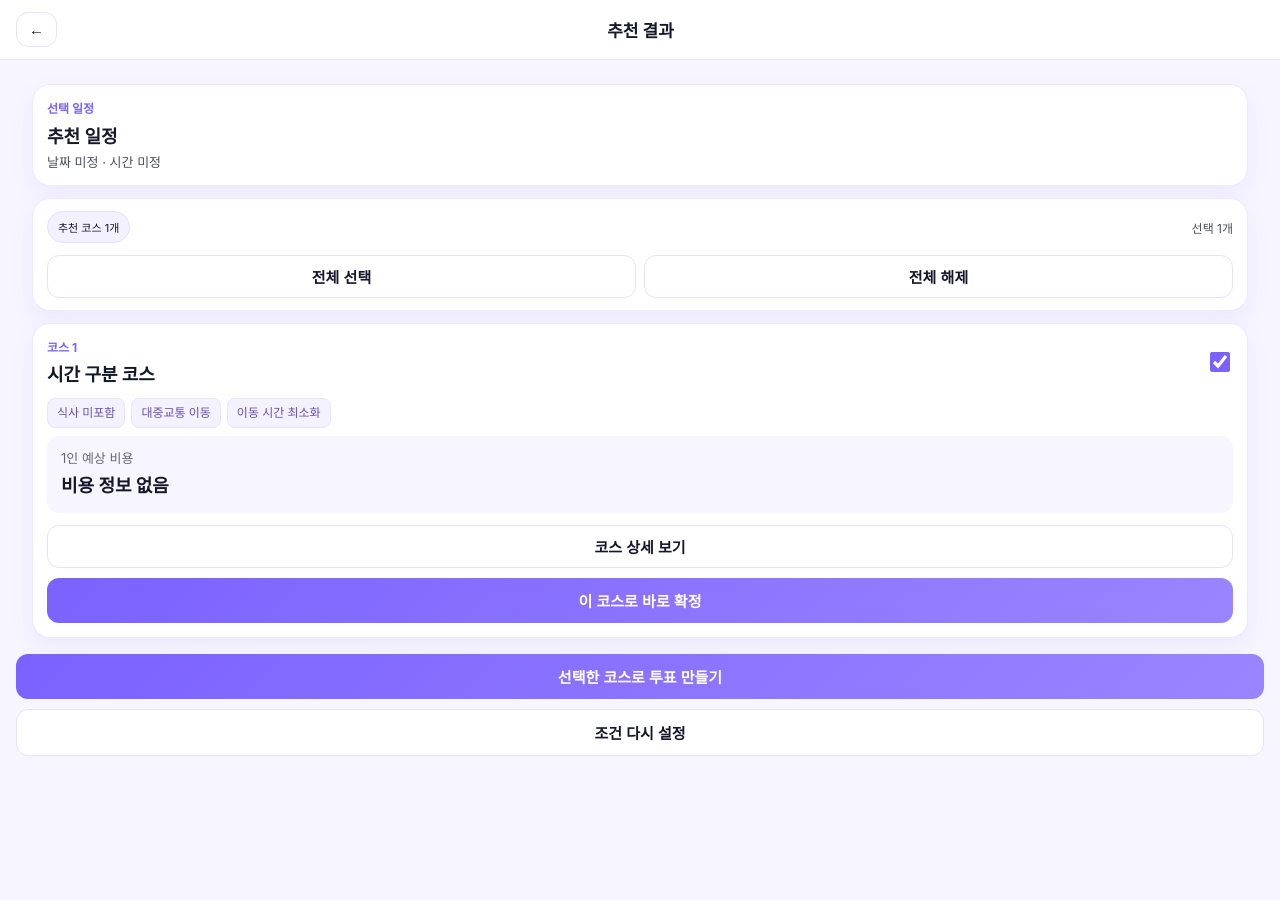
it: 이동 시간과 식사·활동·대기를 포함한 전체 코스 시간을 분리한다
Expected: the text "대중교통 이동" is shown, 131,398 -> 221,428
Expected: the text "이동 종류와 시간" is not shown
Click the button "코스 상세 보기" at (640, 546), box 47,525 -> 1233,568
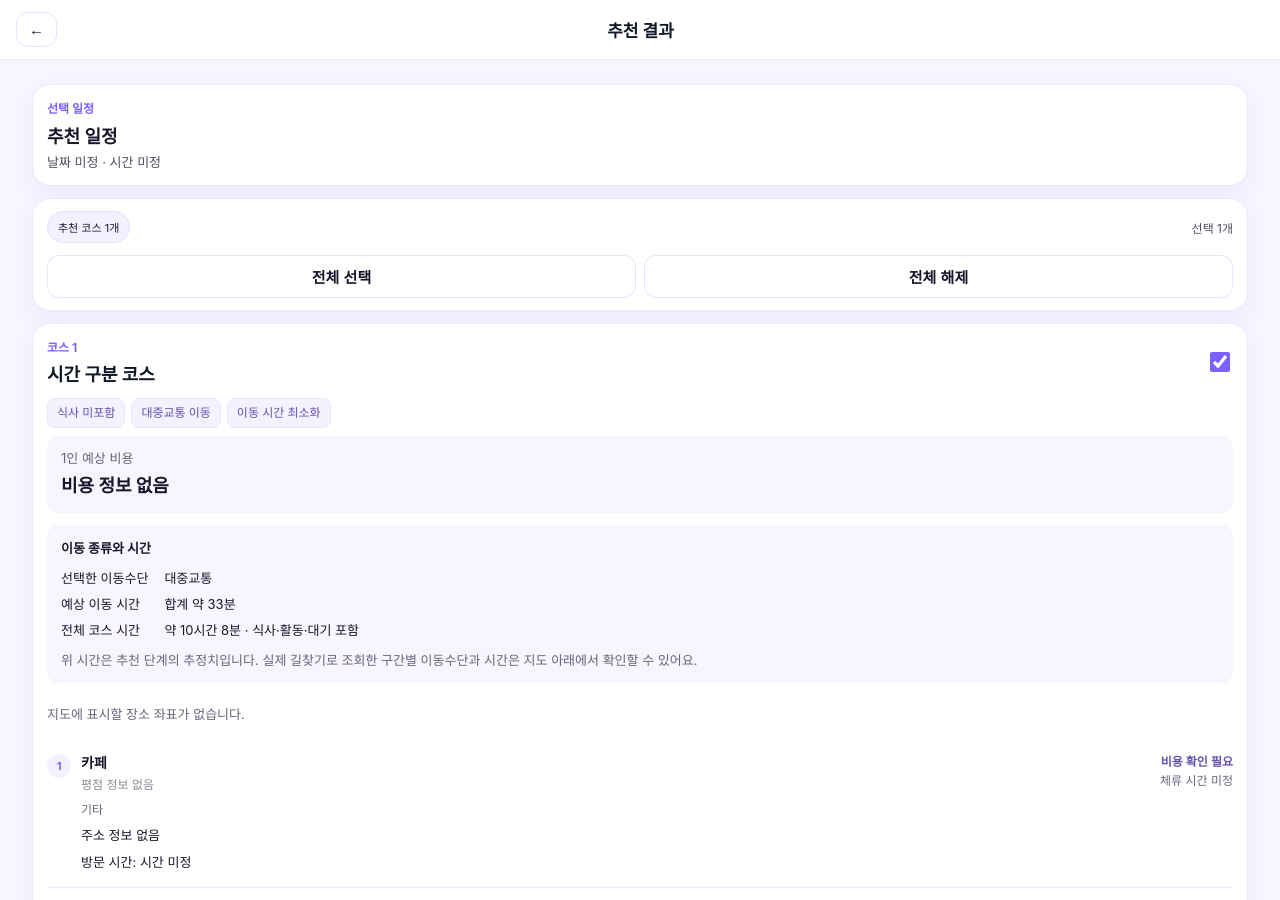
Expected: the text "이동 종류와 시간" is shown, 61,540 -> 151,556
Expected: the text "합계 약 33분" is shown, 164,596 -> 236,612
Expected: the text "약 10시간 8분 · 식사·활동·대기 포함" is shown, 164,622 -> 359,638
